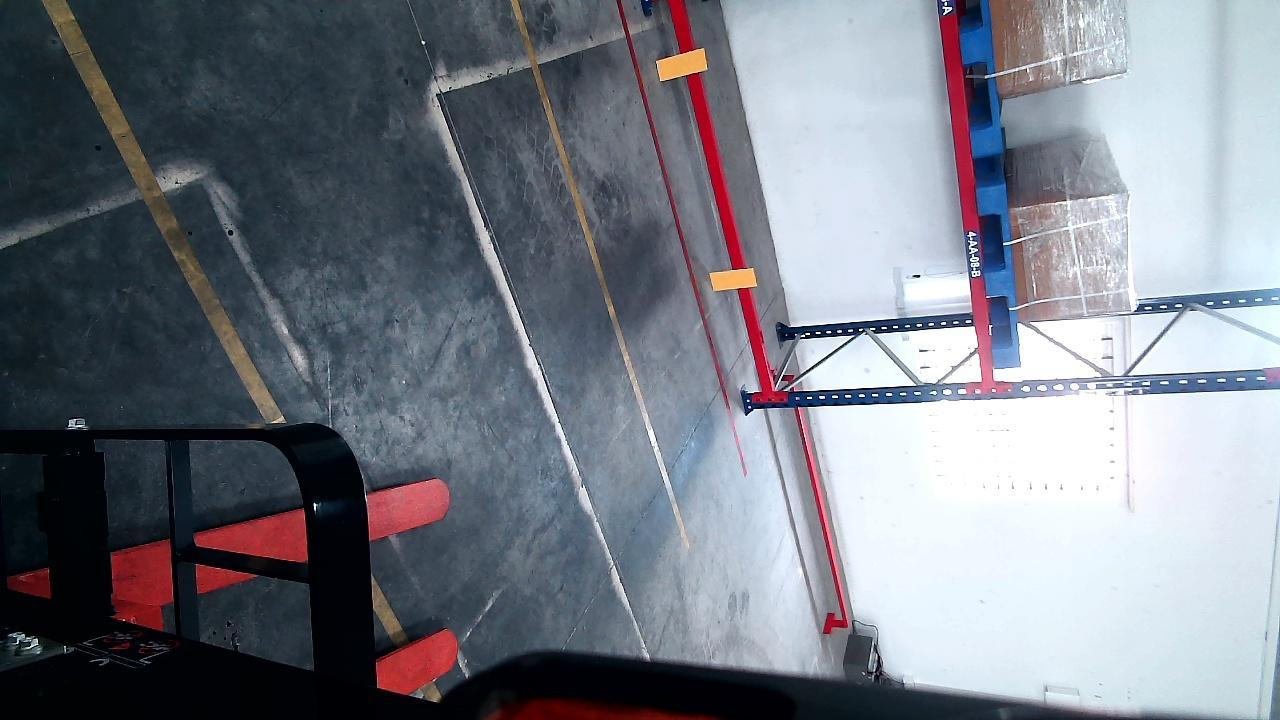yellow_line: (41, 0, 409, 659), (506, 1, 695, 550)
